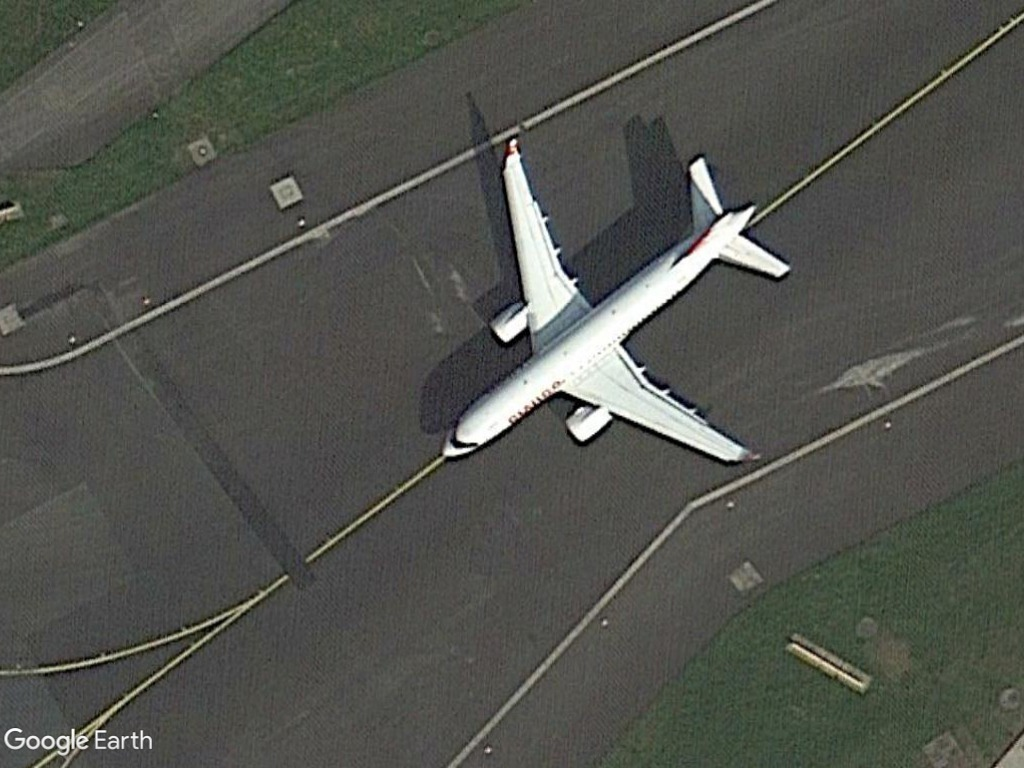airliner: (428, 129, 794, 484)
